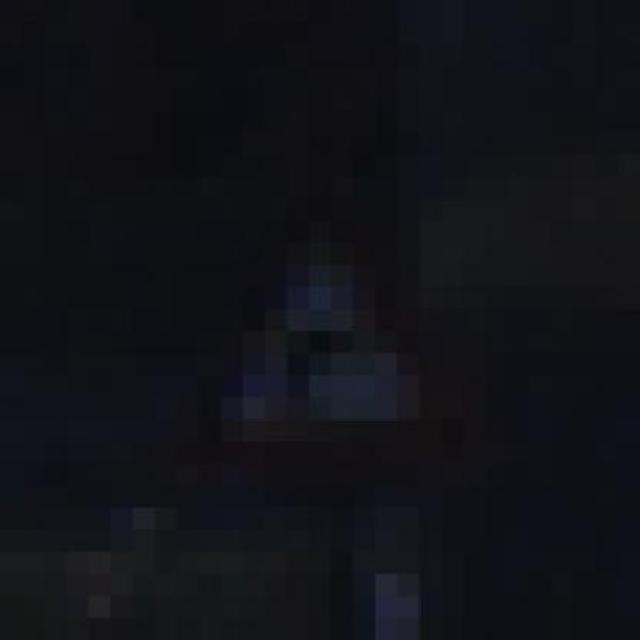Dangerous Rright Curve Ahead: (199, 198, 463, 508)
